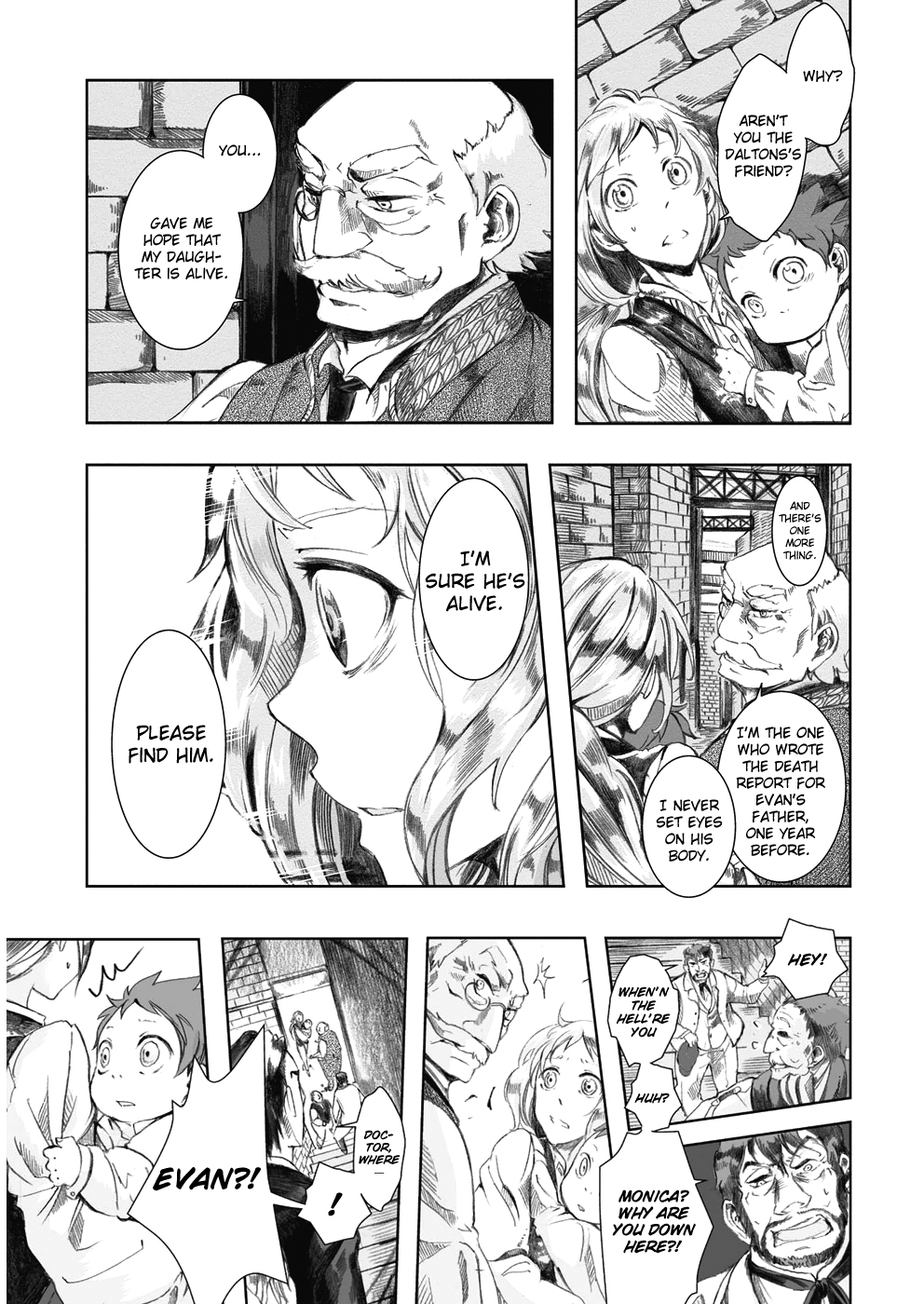bubble: (128, 1024, 306, 1304), (110, 629, 228, 862), (117, 151, 245, 352), (718, 685, 847, 882), (419, 477, 529, 681), (600, 1131, 714, 1304), (716, 53, 806, 242), (642, 755, 735, 898), (787, 2, 855, 146), (202, 93, 279, 213), (336, 1085, 406, 1212), (608, 954, 681, 1068), (769, 473, 830, 585), (764, 919, 849, 999), (297, 1161, 372, 1244), (625, 1063, 682, 1133)
